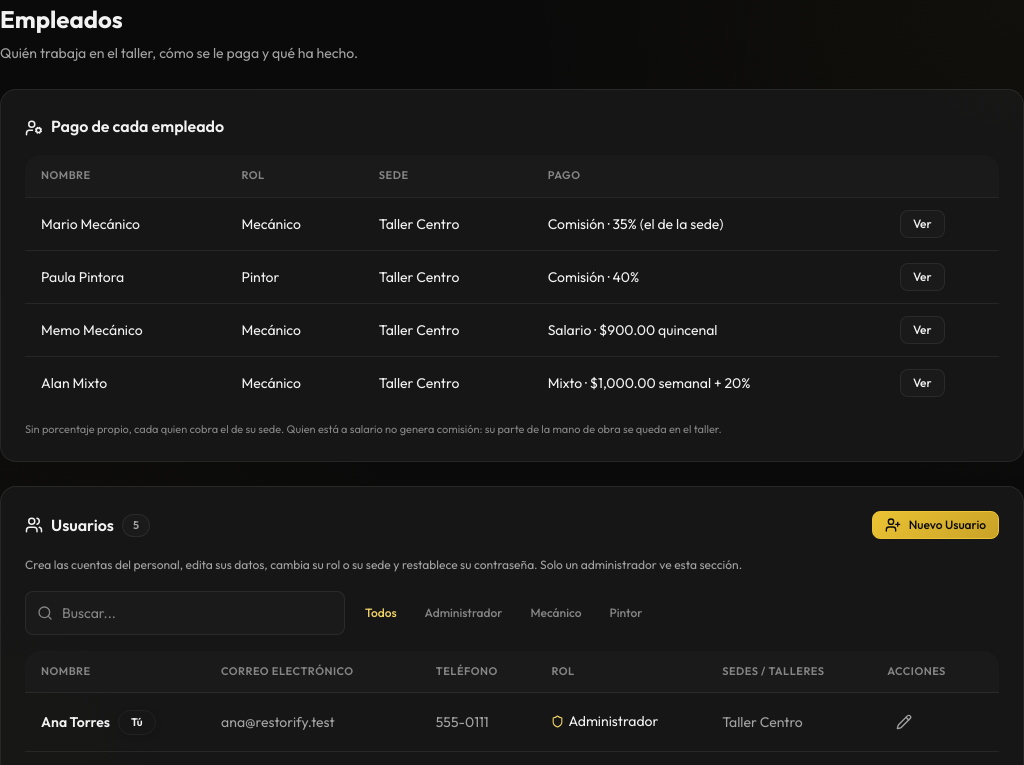
it: Empleados: el pago de cada quien › un porcentaje fuera de 0-100 se rechaza dentro del diálogo
Step 1. Click the button "Ver" in the row of "Comisión · 35% (el de la sede)" → coordinates (922, 224), box [900,210,945,238]
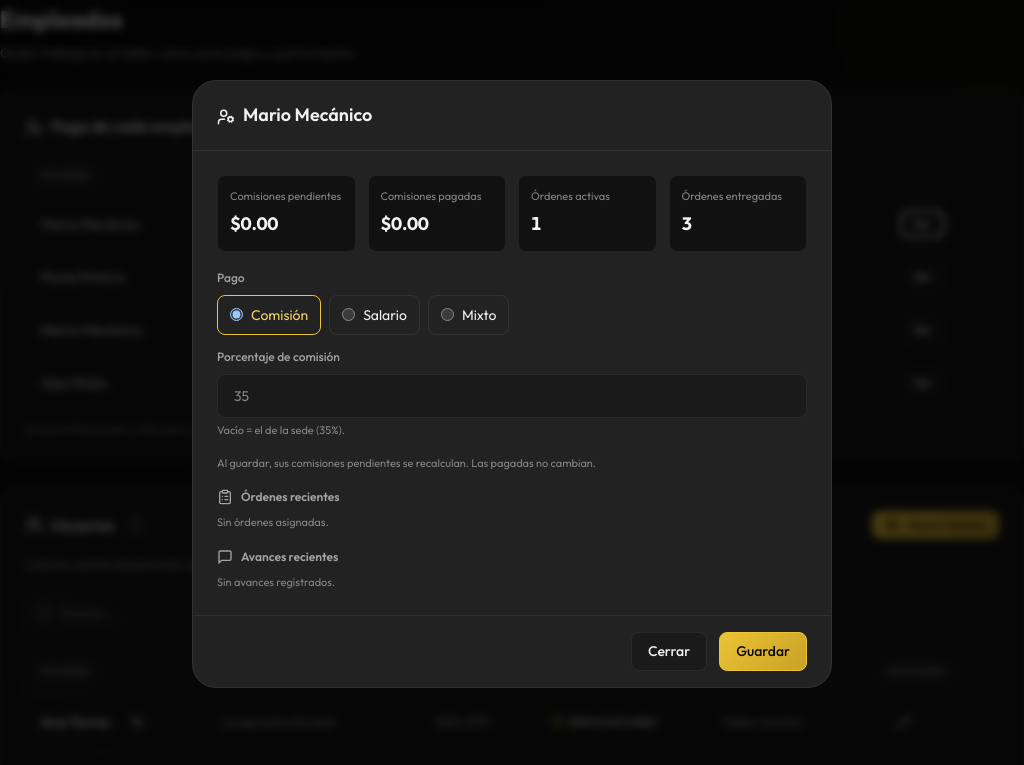
Step 2. Type "150" into the number field labelled "Porcentaje de comisión" → coordinates (512, 396), box [217,374,807,418]
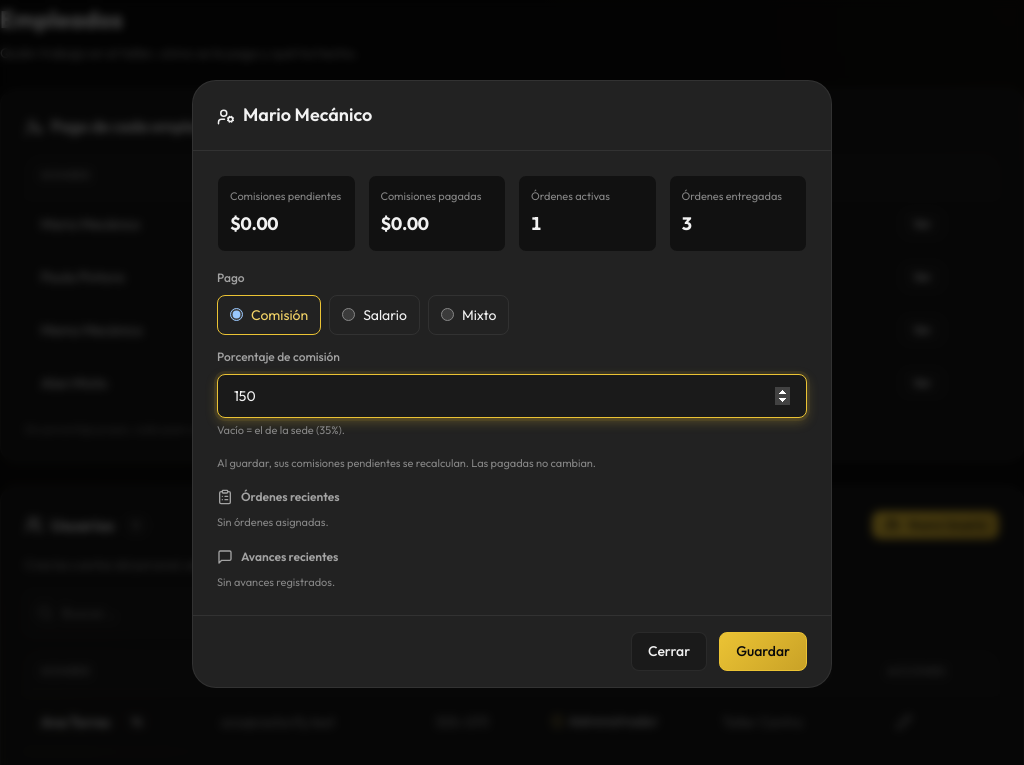
Step 3. Click the button "Guardar" → coordinates (763, 651), box [719,632,807,671]
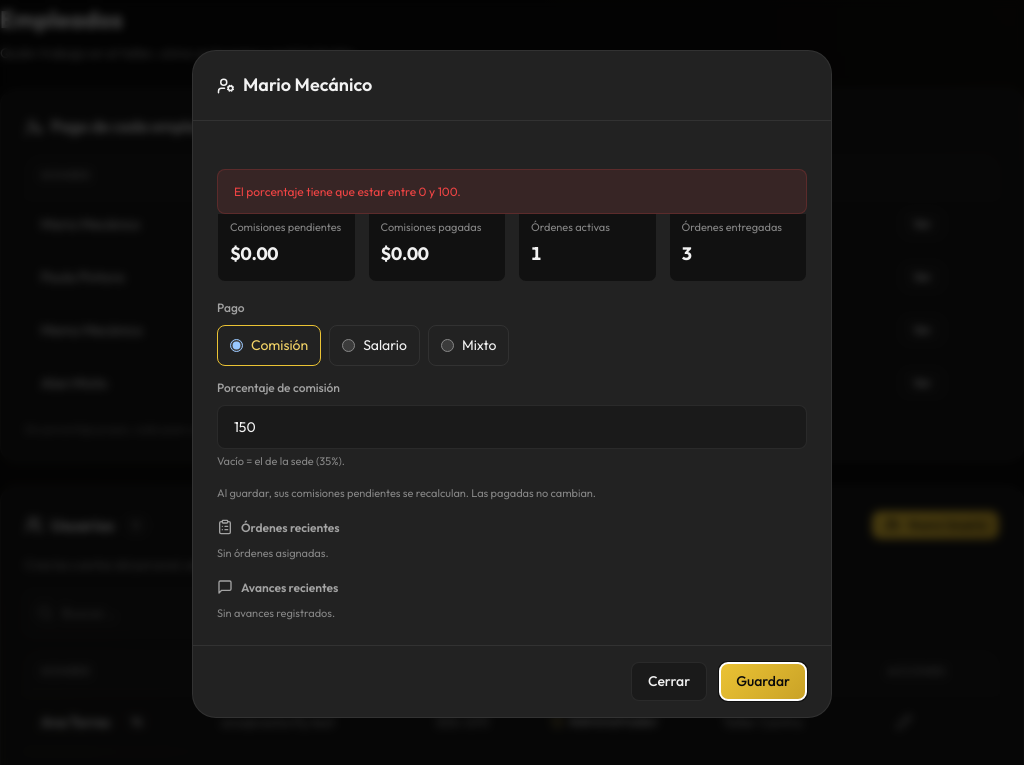
Check: the text "El porcentaje tiene que estar entre 0 y 100." is shown, box [217,168,807,214]
